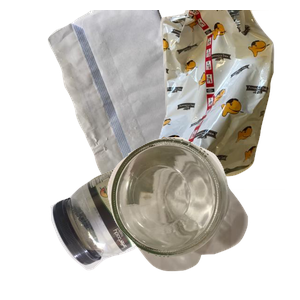glass: (105, 135, 300, 300)
paper: (45, 10, 251, 190)
plastic: (48, 152, 228, 300)
trash: (127, 10, 300, 190)
